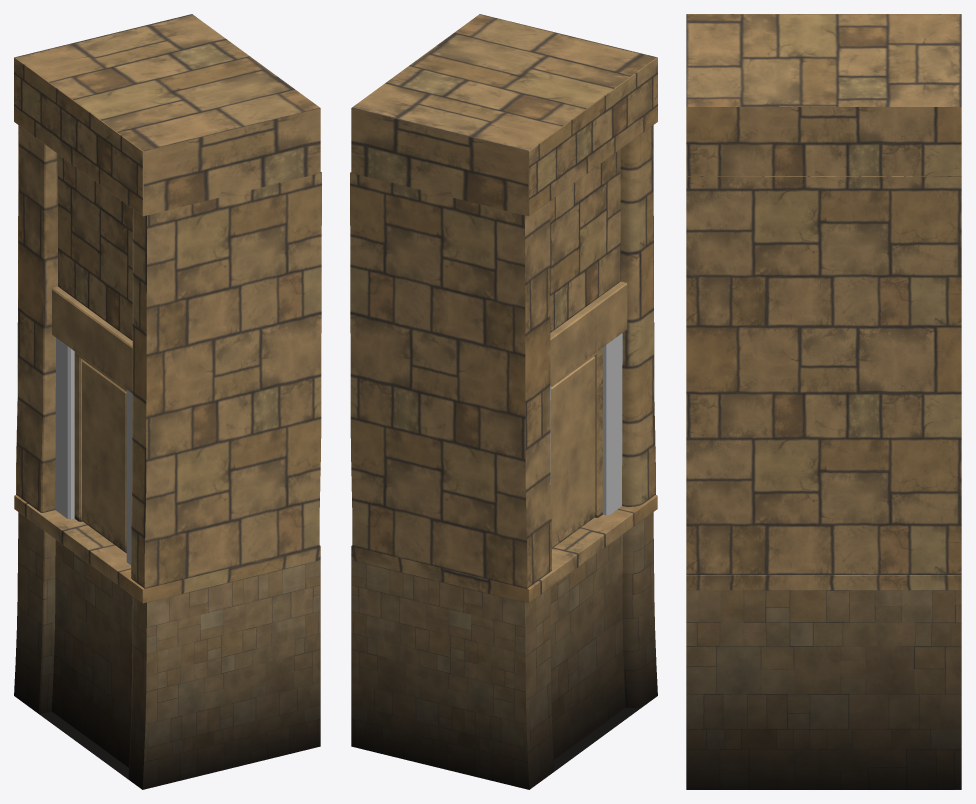
File: DoorEntrance.fbx
3 views of the same model, side by side, from view 1: azimuth 30°, elevation 25°; view 2: azimuth 150°, elevation 25°; view 3: azimuth 270°, elevation 25° (orthographic). The views are drawn at different scales.
Visible parts, largest first — view 1: DoorEntrance, FloorDoorExit, EntryDoor; view 2: DoorEntrance, FloorDoorExit, EntryDoor; view 3: DoorEntrance, FloorDoorExit.
Boxes of the visible parts, bbox=[...] form: DoorEntrance: bbox=[14, 14, 321, 588]; FloorDoorExit: bbox=[14, 495, 320, 789]; EntryDoor: bbox=[82, 360, 126, 553]; DoorEntrance: bbox=[350, 14, 657, 588]; FloorDoorExit: bbox=[351, 495, 657, 789]; EntryDoor: bbox=[551, 356, 595, 548]; DoorEntrance: bbox=[686, 14, 961, 574]; FloorDoorExit: bbox=[686, 575, 961, 789].
Size of the model in its own units: 403 by 1369 by 500.
